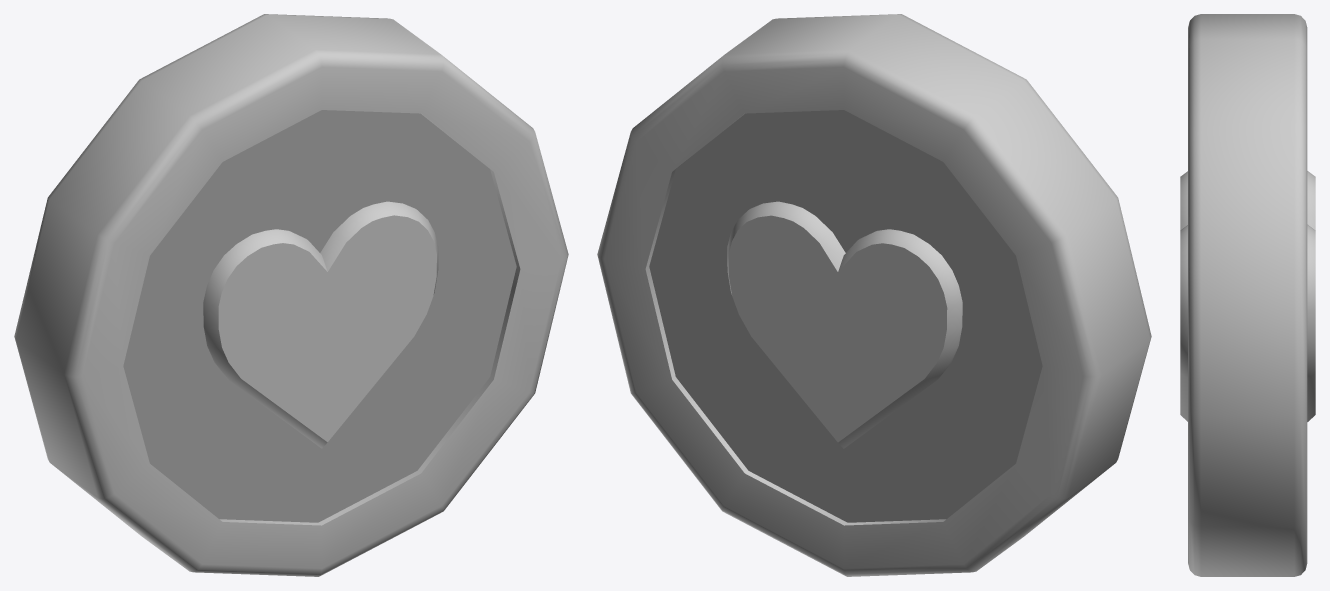
The model's file is Heart Silver.fbx.
3 renders of one model, left to right at view 1: azimuth 30°, elevation 25°; view 2: azimuth 150°, elevation 25°; view 3: azimuth 270°, elevation 25°, orthographic. The views are drawn at different scales.
Visible parts, largest first — view 1: Heart Silver; view 2: Heart Silver; view 3: Heart Silver.
Part boxes in pixels (bbox=[...]): Heart Silver: bbox=[14, 14, 568, 576]; Heart Silver: bbox=[597, 14, 1151, 576]; Heart Silver: bbox=[1180, 14, 1315, 576].
Bounding box in the file's own units: 0.2371 × 0.2371 × 0.0568.
